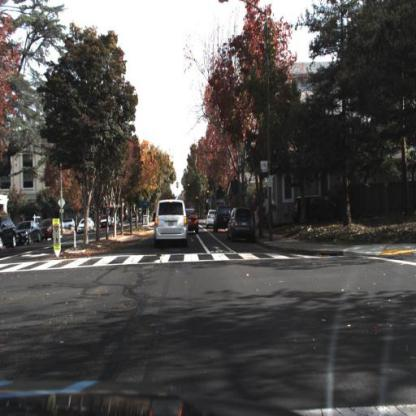car: (152, 195, 190, 252), (292, 196, 347, 227), (227, 206, 258, 244), (12, 219, 46, 252), (40, 217, 65, 241), (211, 204, 225, 237), (187, 208, 202, 237), (77, 219, 93, 239), (204, 209, 219, 230)
